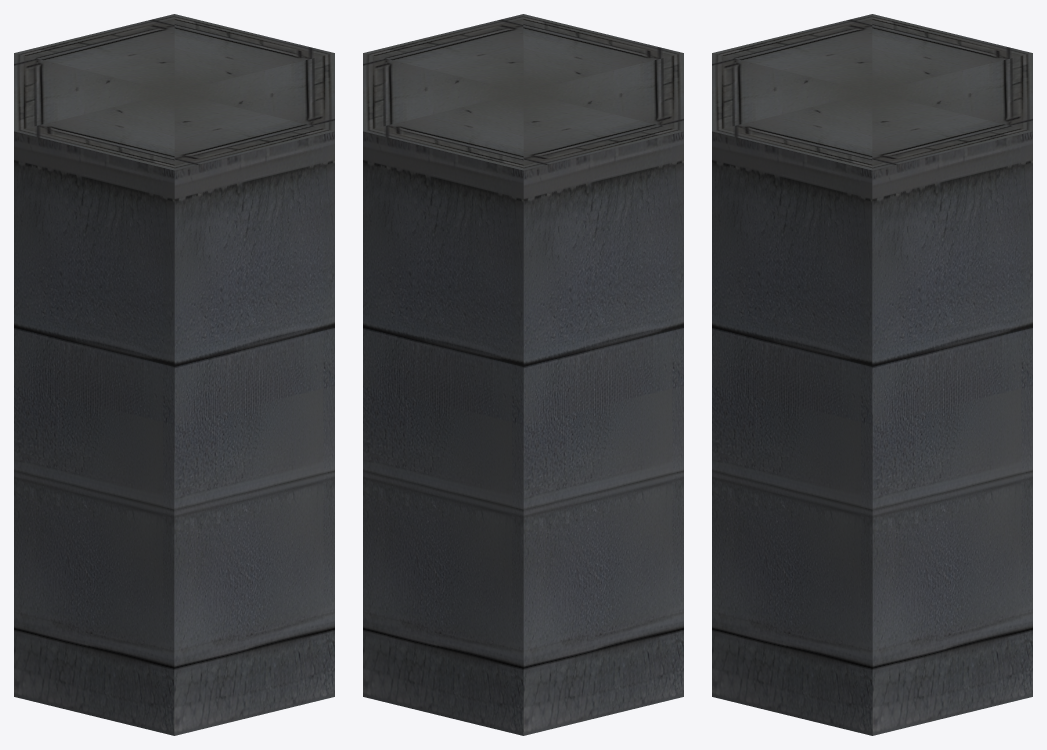
File: oildrum.gltf
The picture shows the model from 3 angles, left to right: view 1: azimuth 30°, elevation 25°; view 2: azimuth 150°, elevation 25°; view 3: azimuth 270°, elevation 25°; orthographic projection.
Parts seen in each view (by area): view 1: oildrum_atomic0; view 2: oildrum_atomic0; view 3: oildrum_atomic0.
Part boxes in pixels (<box>): oildrum_atomic0: <box>14,14,334,735</box>; oildrum_atomic0: <box>363,14,683,735</box>; oildrum_atomic0: <box>712,14,1032,735</box>.
Size of the model in its own units: 3.99 by 6.73 by 3.46.
Materials: 1 (1 with a texture image).
